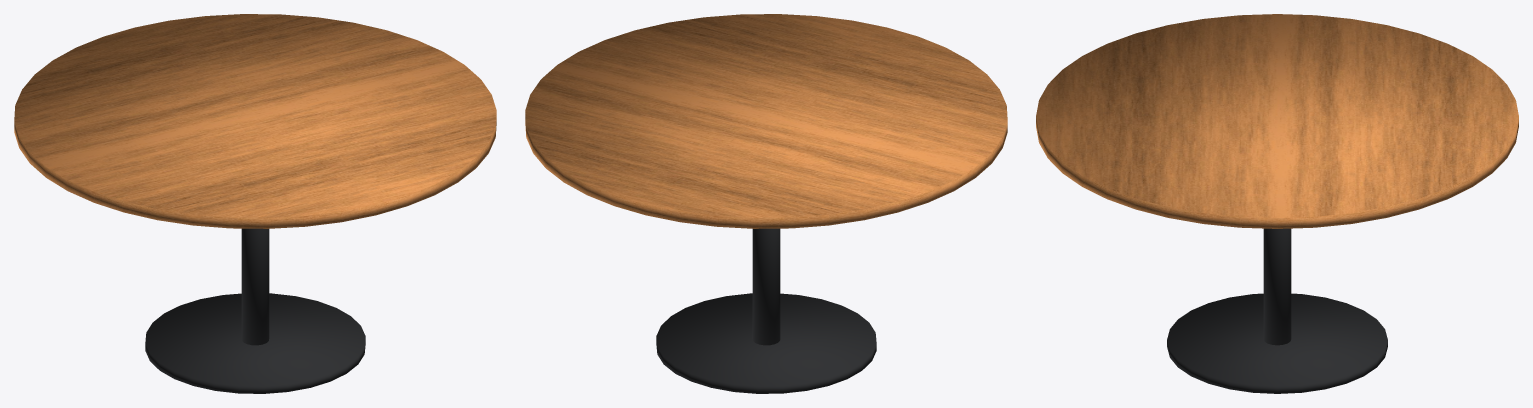
Rendered from meeting.round-table-6.glb.
3 views of the same model, side by side, from view 1: azimuth 30°, elevation 25°; view 2: azimuth 150°, elevation 25°; view 3: azimuth 270°, elevation 25° (orthographic).
Visible parts, largest first — view 1: meeting.round-table-6.001; view 2: meeting.round-table-6.001; view 3: meeting.round-table-6.001.
Boxes of the visible parts, x1,y1,x2,y2 form: meeting.round-table-6.001: (14, 14, 496, 393); meeting.round-table-6.001: (525, 14, 1007, 393); meeting.round-table-6.001: (1036, 14, 1518, 393).
Size of the model in its own units: 1.4 by 0.74 by 1.4.
2 materials, 1 textured.
